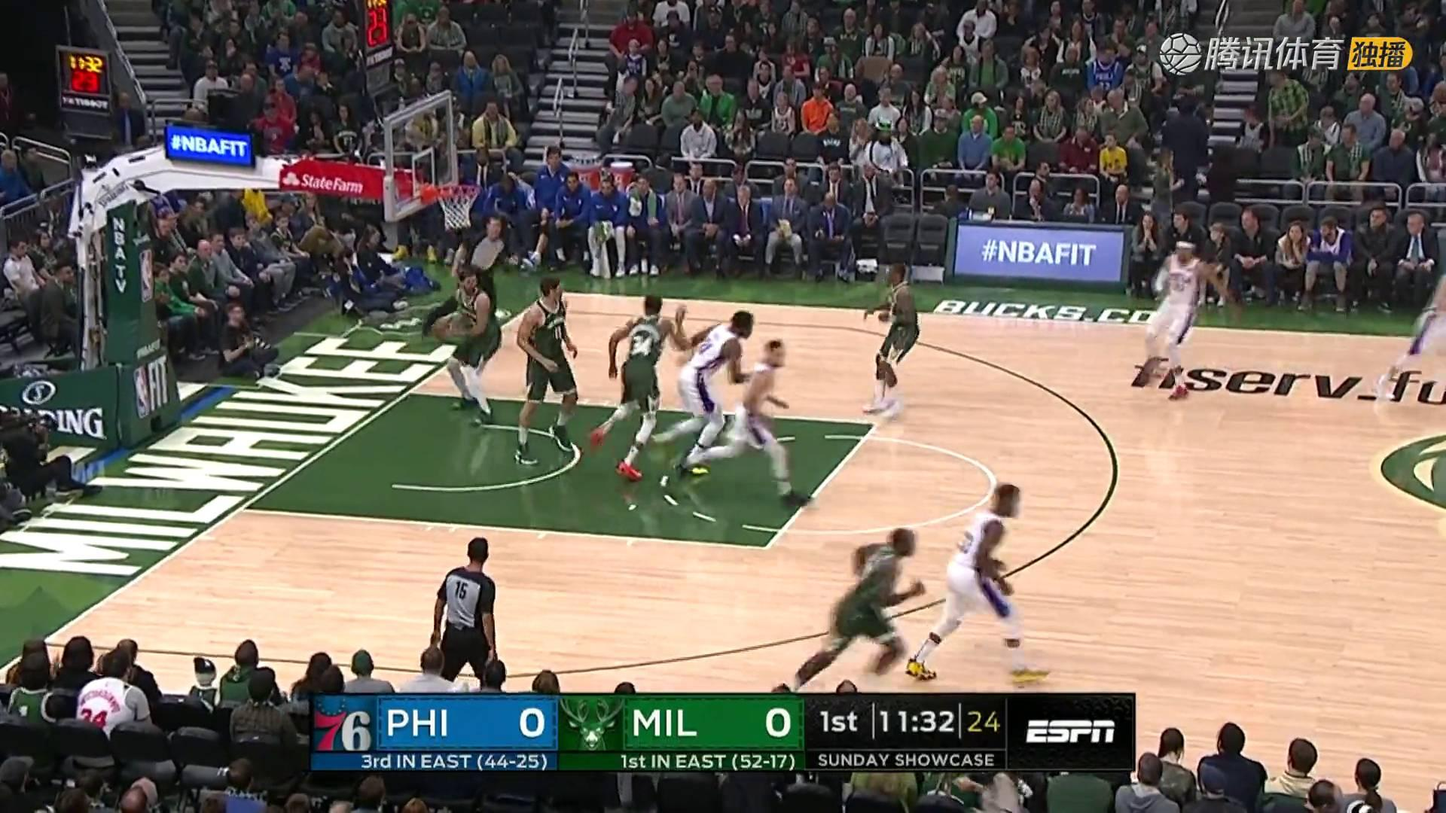basketball: (437, 319, 461, 343)
